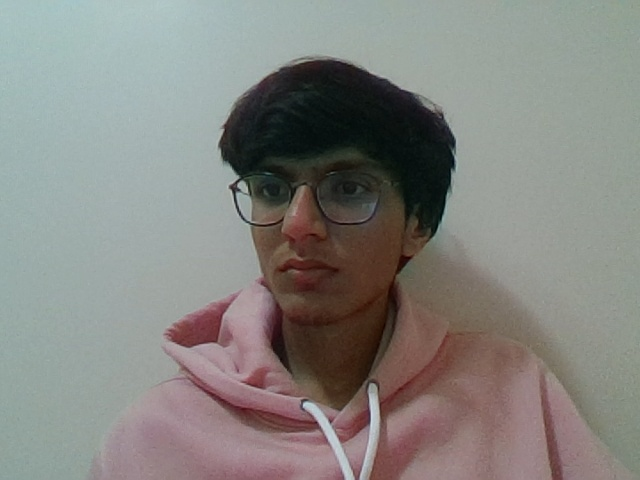Face_mask_not_found: (232, 218, 450, 330)
